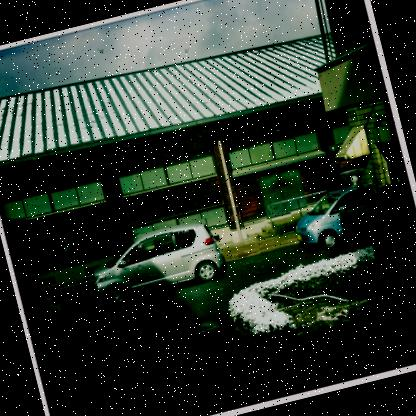Car: (87, 216, 230, 310), (288, 183, 378, 255)
